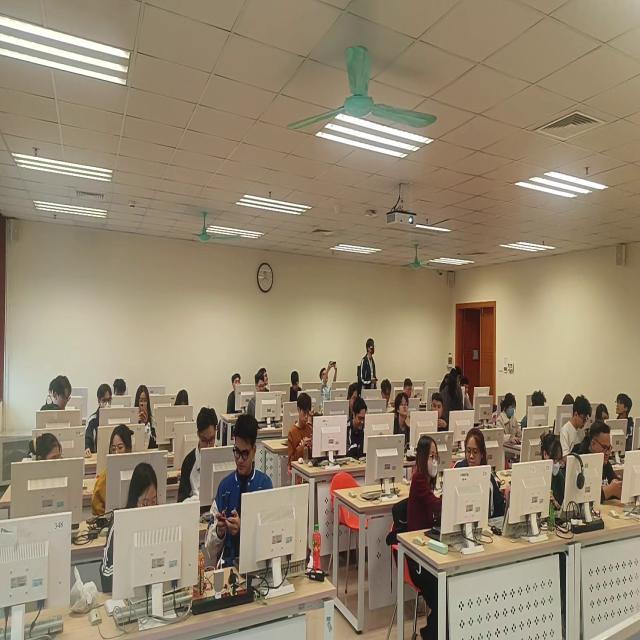raise_head: (409, 434, 446, 530), (394, 390, 415, 455), (227, 371, 245, 416)
stand: (441, 365, 464, 427), (359, 333, 382, 391)
using_computer: (99, 461, 163, 598), (179, 403, 222, 509), (537, 429, 567, 518), (85, 381, 117, 460), (562, 396, 590, 456), (346, 397, 368, 458), (497, 391, 524, 439), (523, 389, 548, 433), (49, 375, 75, 416), (249, 371, 270, 421), (432, 390, 447, 434), (380, 380, 394, 413), (175, 385, 192, 412), (289, 369, 302, 403), (113, 372, 128, 399), (462, 376, 473, 409), (595, 403, 612, 423), (348, 383, 358, 414), (404, 376, 414, 401)
using_phone: (208, 411, 274, 576), (574, 421, 626, 508), (288, 390, 315, 467), (135, 382, 160, 449), (322, 358, 343, 403)
